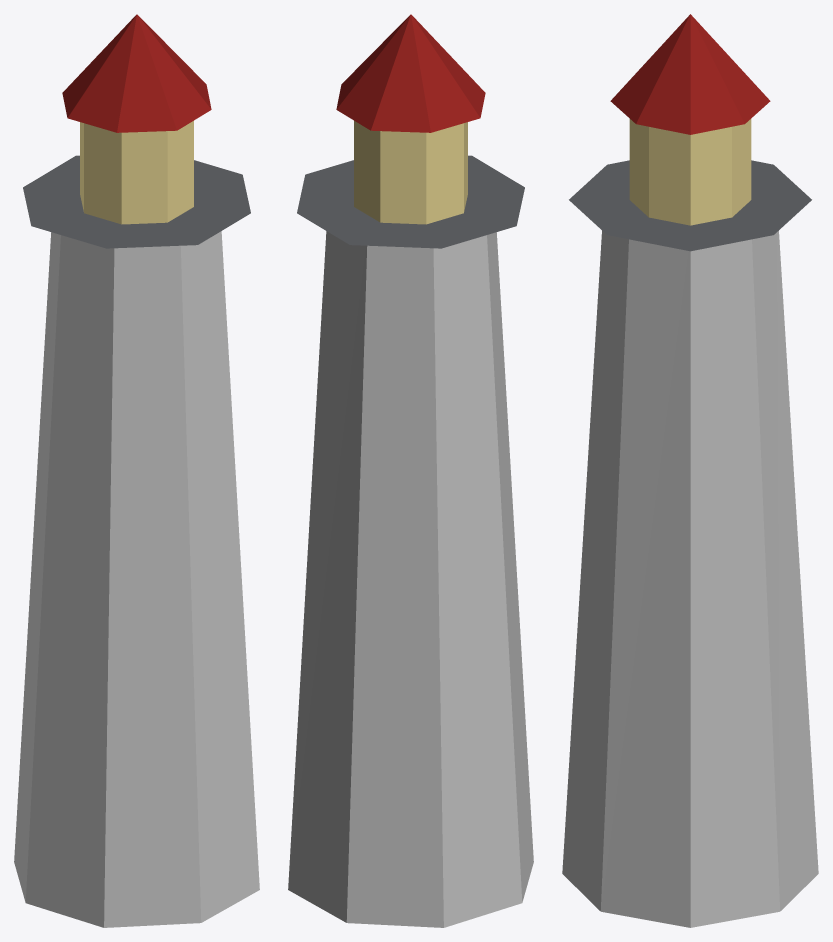
The model's file is lighthouse.obj.
3 renders of one model, left to right at view 1: azimuth 30°, elevation 25°; view 2: azimuth 150°, elevation 25°; view 3: azimuth 270°, elevation 25°, orthographic.
Bounding box in the file's own units: 80 × 296 × 80.
